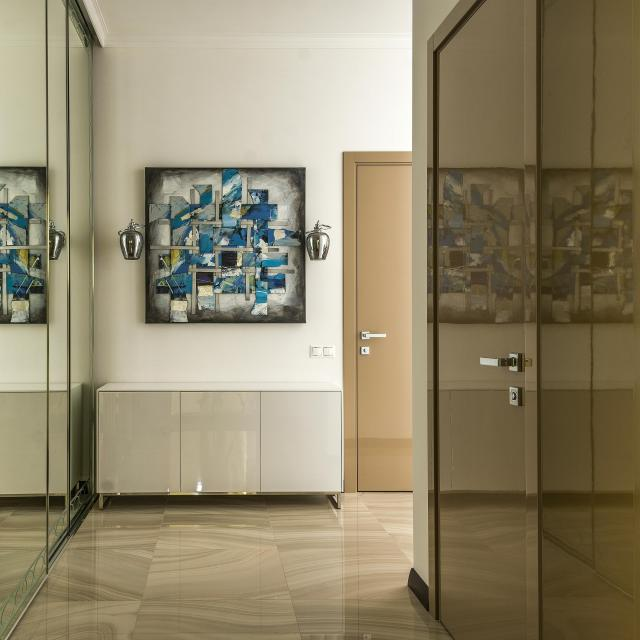door-handle: (480, 352, 525, 371), (360, 331, 386, 340)
